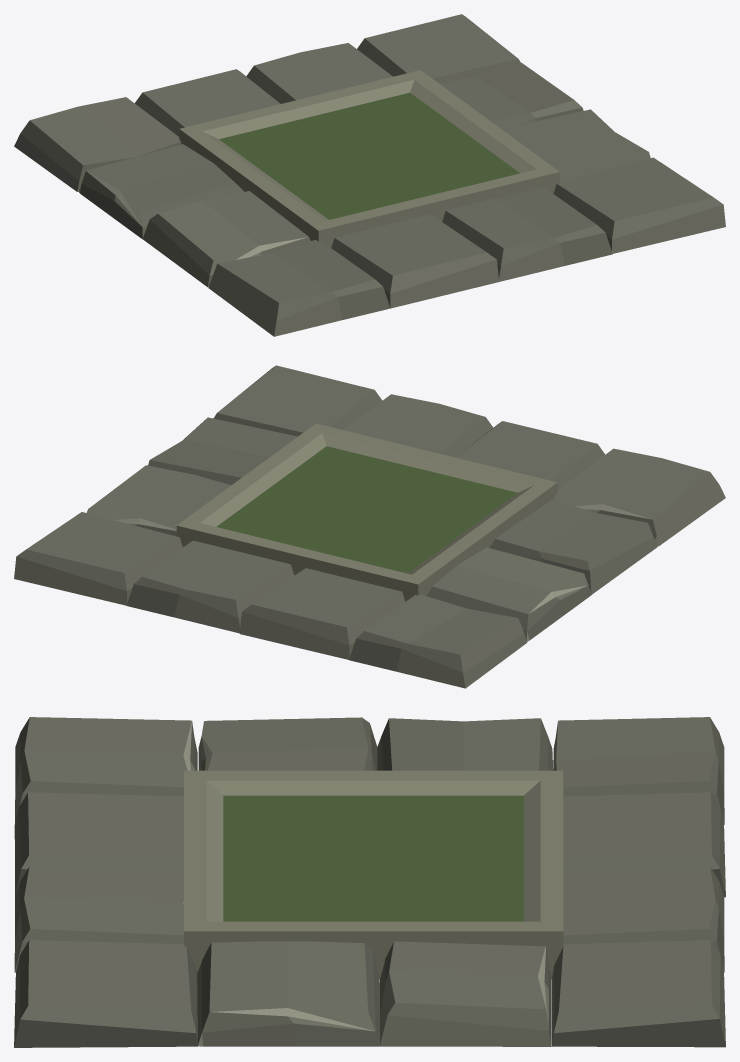
The model's file is quaternius-ultimate-modular-ruins-floor-tree.glb.
3 views of the same model, one above another, from view 1: azimuth 30°, elevation 25°; view 2: azimuth 150°, elevation 25°; view 3: azimuth 270°, elevation 25° (orthographic). The views are drawn at different scales.
Visible parts, largest first — view 1: Floor_Tree; view 2: Floor_Tree; view 3: Floor_Tree.
Boxes of the visible parts, bbox=[...] form: Floor_Tree: bbox=[14, 14, 725, 336]; Floor_Tree: bbox=[14, 365, 725, 688]; Floor_Tree: bbox=[14, 717, 725, 1047].
Bounding box in the file's own units: 1.99 × 0.1484 × 2.
